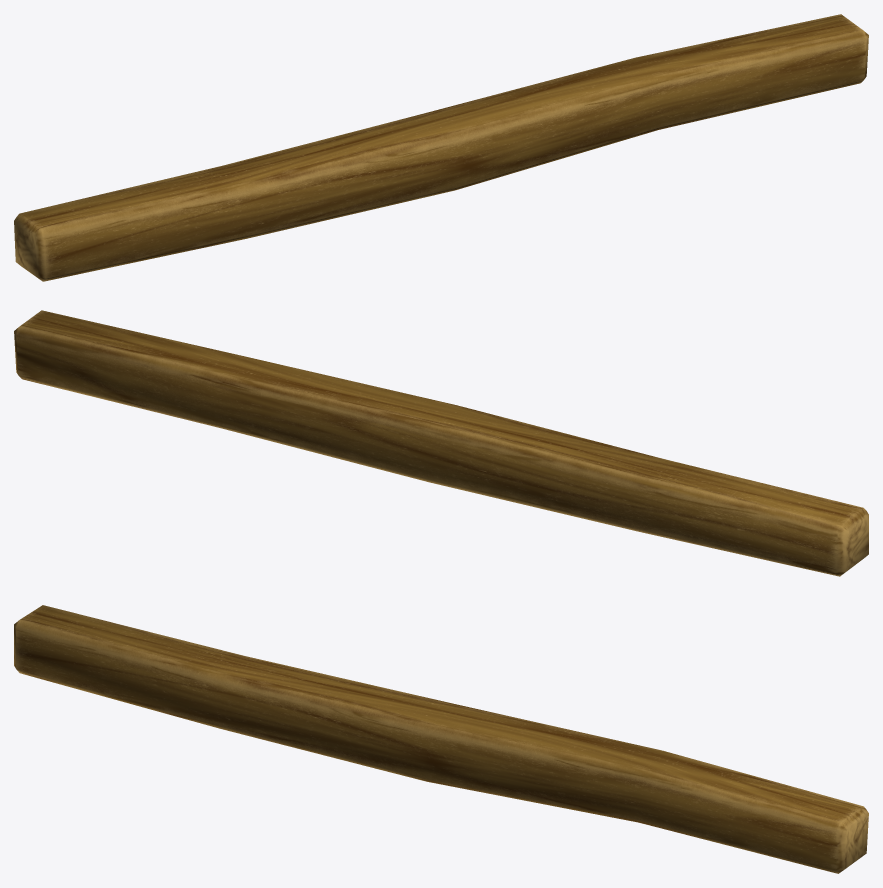
Rendered from Pole2.fbx.
The picture shows the model from 3 angles, top to bottom: view 1: azimuth 30°, elevation 25°; view 2: azimuth 150°, elevation 25°; view 3: azimuth 330°, elevation 25°; orthographic projection.
Parts seen in each view (by area): view 1: Pole2_LOD0; view 2: Pole2_LOD0; view 3: Pole2_LOD0.
Boxes of the visible parts, x1,y1,x2,y2 form: Pole2_LOD0: (14, 14, 868, 281); Pole2_LOD0: (14, 310, 868, 576); Pole2_LOD0: (14, 605, 868, 873).
Size of the model in its own units: 150 by 11.06 by 10.56.
1 material, 1 textured.
